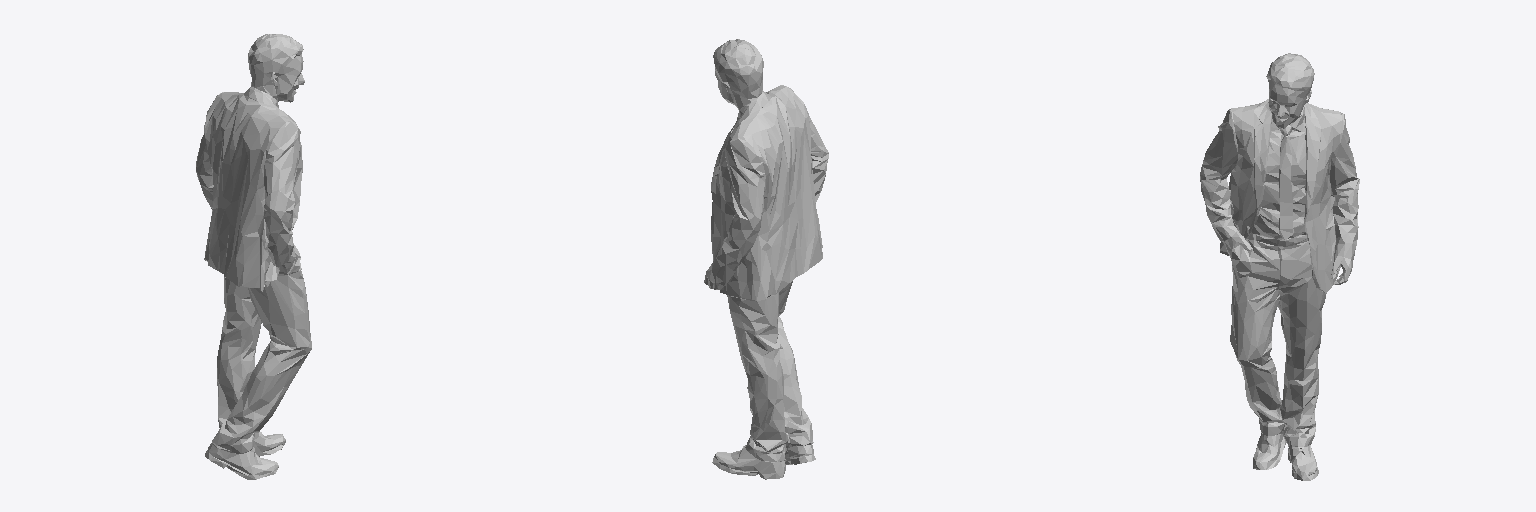
File: Person.obj
3 views of the same model, side by side, from view 1: azimuth 30°, elevation 25°; view 2: azimuth 150°, elevation 25°; view 3: azimuth 270°, elevation 25° (orthographic).
Visible parts, largest first — view 1: rp_dennis_posed_004_30k; view 2: rp_dennis_posed_004_30k; view 3: rp_dennis_posed_004_30k.
Part boxes in pixels (left/top/right/bottom): rp_dennis_posed_004_30k: left=196, top=34, right=311, bottom=479; rp_dennis_posed_004_30k: left=704, top=39, right=828, bottom=479; rp_dennis_posed_004_30k: left=1200, top=53, right=1359, bottom=480.
Bounding box in the file's own units: 1.43 × 5.85 × 2.01.